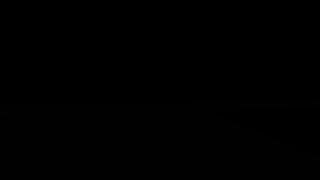turn_left: (217, 34, 244, 60)
